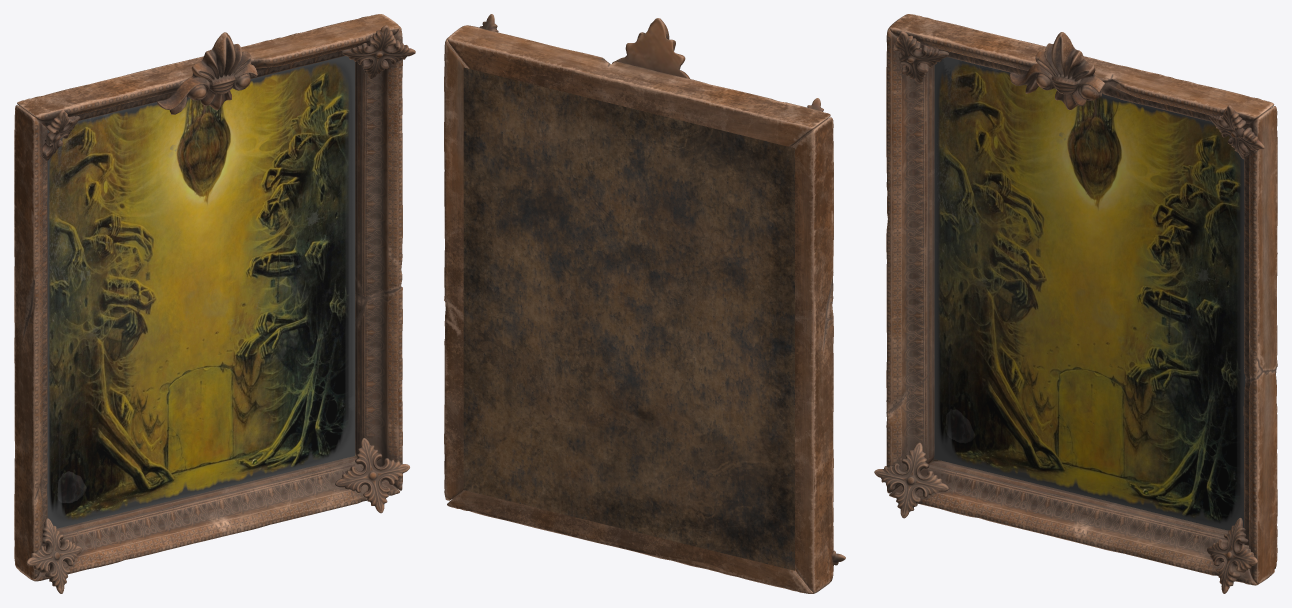
Rendered from painting_beksinski_3.glb.
3 renders of one model, left to right at view 1: azimuth 30°, elevation 25°; view 2: azimuth 150°, elevation 25°; view 3: azimuth 330°, elevation 25°, orthographic.
Visible parts, largest first — view 1: Plotno_1 - painting_0, Rama01_LP, Szyba; view 2: Maska, Rama01_LP; view 3: Plotno_1 - painting_0, Rama01_LP, Szyba.
Boxes of the visible parts, left/top/right/bottom form: Plotno_1 - painting_0: left=47, top=56, right=354, bottom=528; Rama01_LP: left=14, top=14, right=415, bottom=593; Szyba: left=47, top=56, right=355, bottom=528; Maska: left=463, top=67, right=794, bottom=570; Rama01_LP: left=444, top=14, right=845, bottom=593; Plotno_1 - painting_0: left=934, top=57, right=1245, bottom=530; Rama01_LP: left=874, top=14, right=1277, bottom=593; Szyba: left=934, top=57, right=1245, bottom=530.
Bounding box in the file's own units: 3.91 × 5.05 × 0.5839.
Materials: 4 (4 with a texture image).
